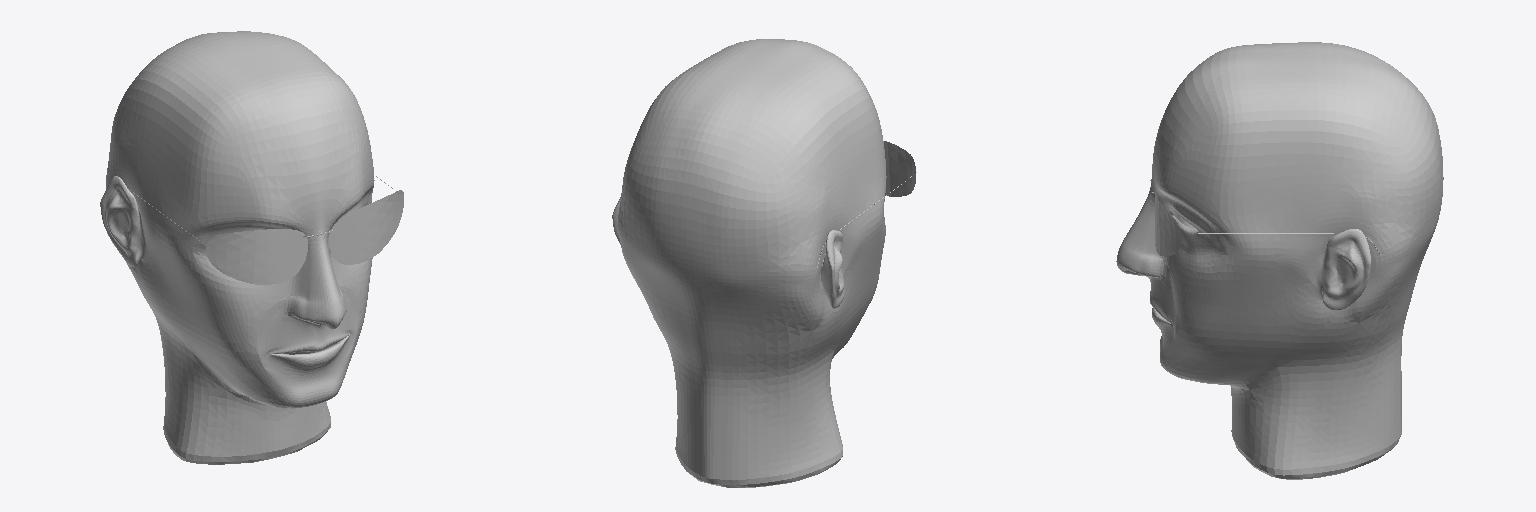
File: neo_neo_neo.blend12121.blend__hair.obj
3 views of the same model, side by side, from view 1: azimuth 30°, elevation 25°; view 2: azimuth 150°, elevation 25°; view 3: azimuth 270°, elevation 25° (orthographic).
Parts seen in each view (by area): view 1: neo_Cube, g.cam_Plane.002; view 2: neo_Cube, g.cam_Plane.002; view 3: neo_Cube, g.cam_Plane.002.
Boxes of the visible parts, x1=… form: neo_Cube: x1=100, y1=31, x2=374, y2=464; g.cam_Plane.002: x1=206, y1=190, x2=403, y2=284; neo_Cube: x1=612, y1=39, x2=886, y2=487; g.cam_Plane.002: x1=884, y1=141, x2=915, y2=196; neo_Cube: x1=1116, y1=42, x2=1443, y2=479; g.cam_Plane.002: x1=1155, y1=192, x2=1181, y2=256.
Size of the model in its own units: 4.15 by 6.96 by 5.3.